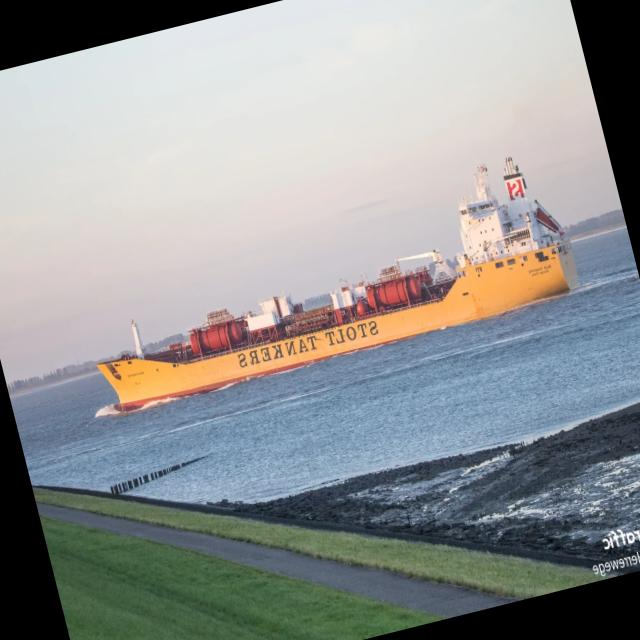Tanker: (98, 156, 577, 410)
